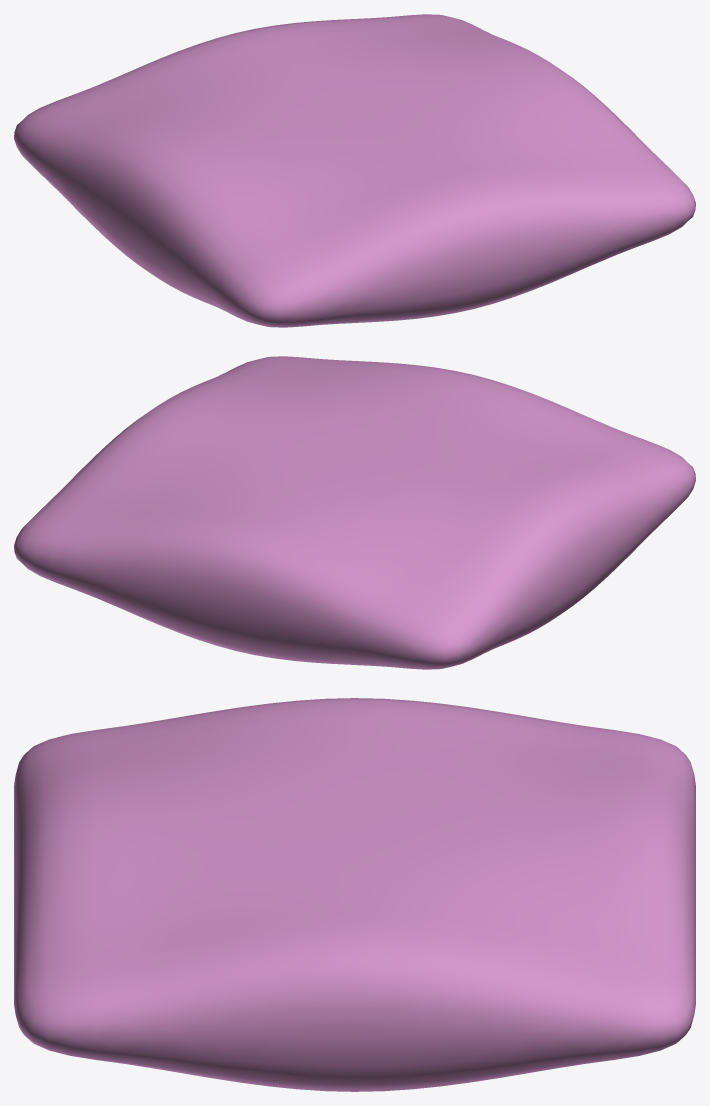
File: cojin.fbx
3 renders of one model, top to bottom at view 1: azimuth 30°, elevation 25°; view 2: azimuth 150°, elevation 25°; view 3: azimuth 270°, elevation 25°, orthographic. The views are drawn at different scales.
Parts seen in each view (by area): view 1: Cube; view 2: Cube; view 3: Cube.
Boxes of the visible parts, <box> form: Cube: <box>14,14,695,327</box>; Cube: <box>14,356,695,669</box>; Cube: <box>14,698,695,1091</box>.
Bounding box in the file's own units: 198 × 51.14 × 198.
